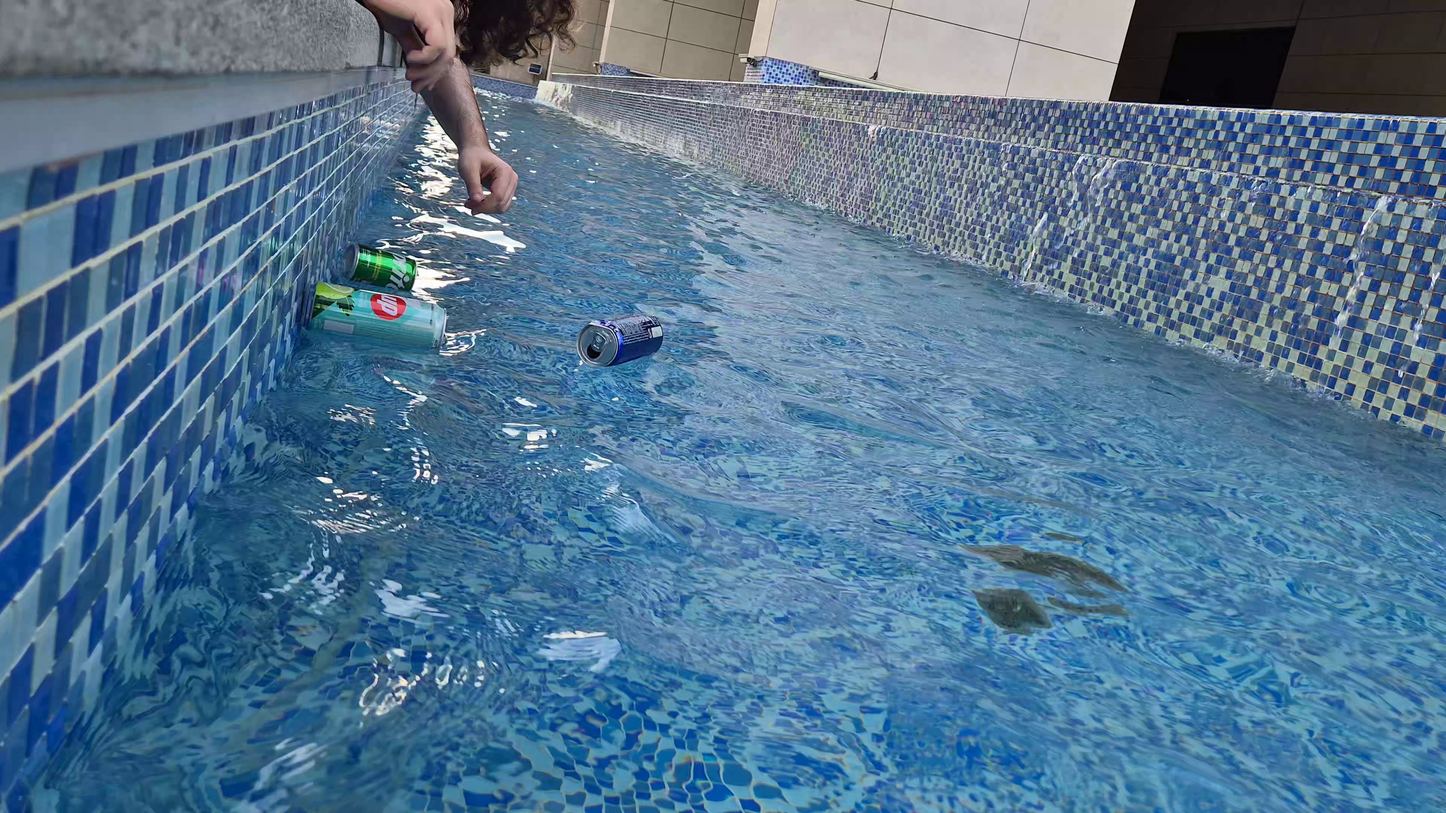debris: (303, 274, 459, 361), (568, 309, 667, 374), (339, 239, 419, 295)
